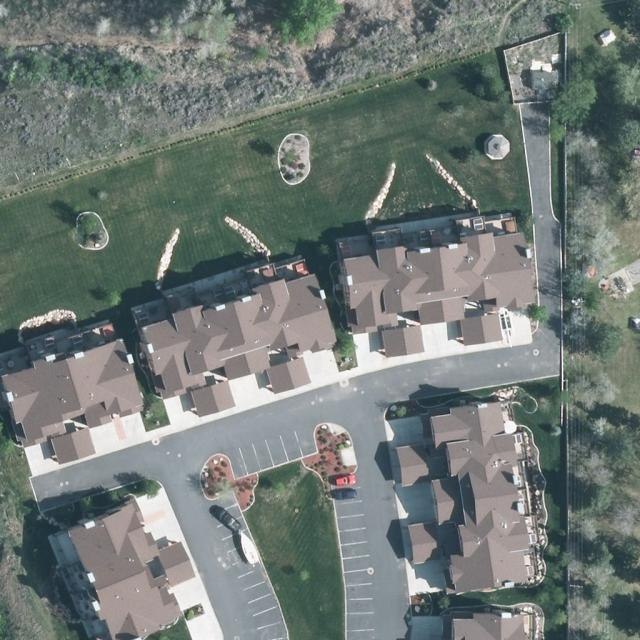vehicle: (210, 506, 242, 534), (331, 490, 357, 500), (333, 476, 358, 486)
